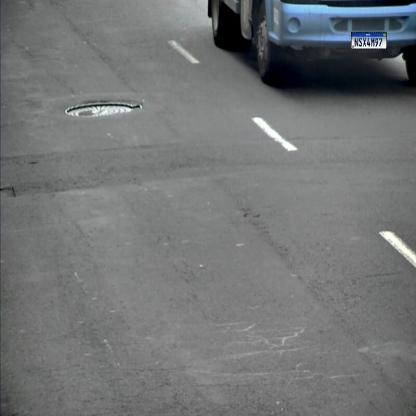PlacaM: (351, 32, 387, 49)
